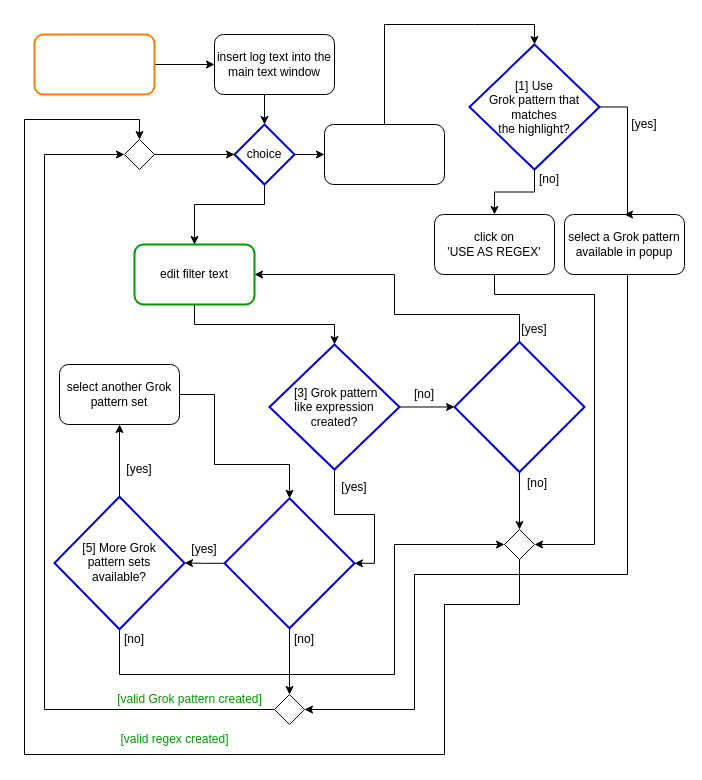
Image size: 702x780. Some labels were removed from this diagram. The shapes that lost their labels are listed below. From the top down, each one's centre as x and y in pixels, then its label:
At point 94,64: "Start application".
At point 384,154: "highlight text inside of a log row to get recommended Groks".
At point 519,406: "[2] 'Invalid expression' error shown?".
At point 289,563: "[4] 'Grok not found in selected Grok sets!' error shown?".
